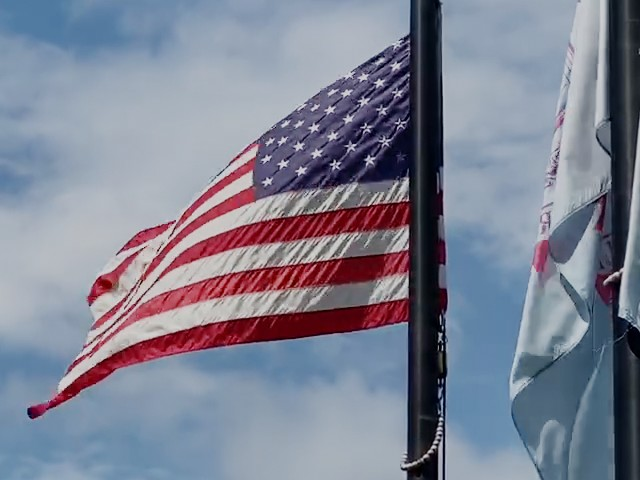America flag: (25, 31, 409, 423)
